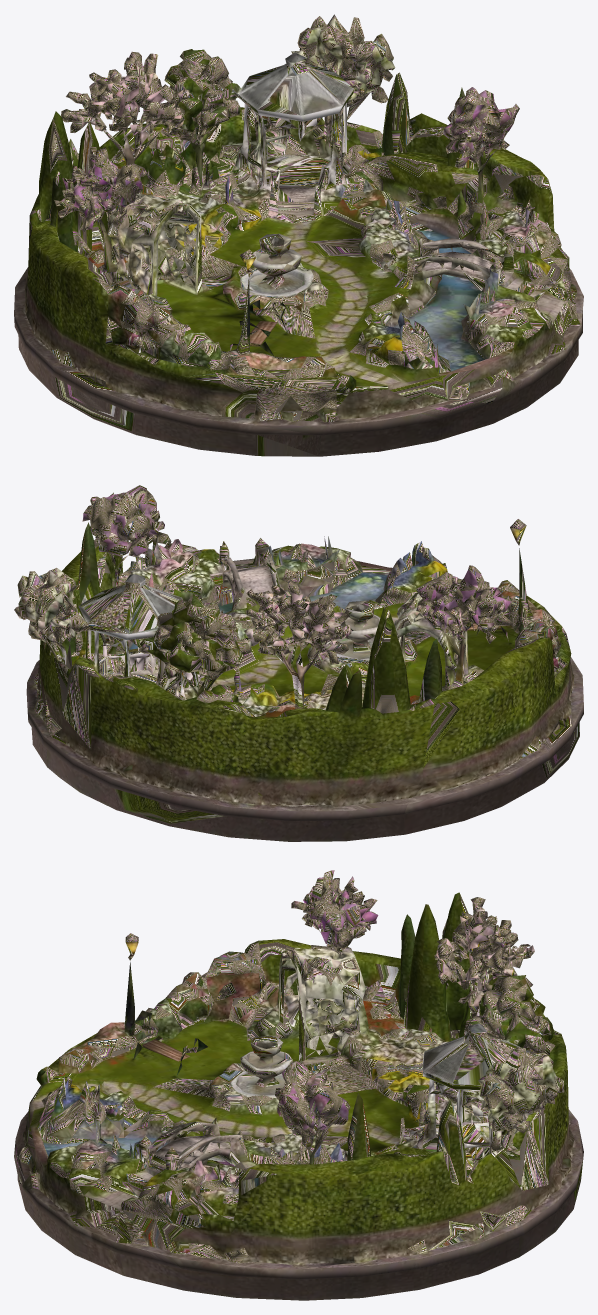
File: Enchanted_Garden_with.glb
3 renders of one model, top to bottom at view 1: azimuth 30°, elevation 25°; view 2: azimuth 150°, elevation 25°; view 3: azimuth 270°, elevation 25°, orthographic. The views are drawn at different scales.
Visible parts, largest first — view 1: Enchanted_Garden_with; view 2: Enchanted_Garden_with; view 3: Enchanted_Garden_with.
Part boxes in pixels (x1,y1,x2,y2): Enchanted_Garden_with: (14, 14, 583, 456); Enchanted_Garden_with: (14, 485, 583, 841); Enchanted_Garden_with: (14, 870, 583, 1300).
Size of the model in its own units: 1.89 by 0.8559 by 1.89.
Materials: 1 (1 with a texture image).
